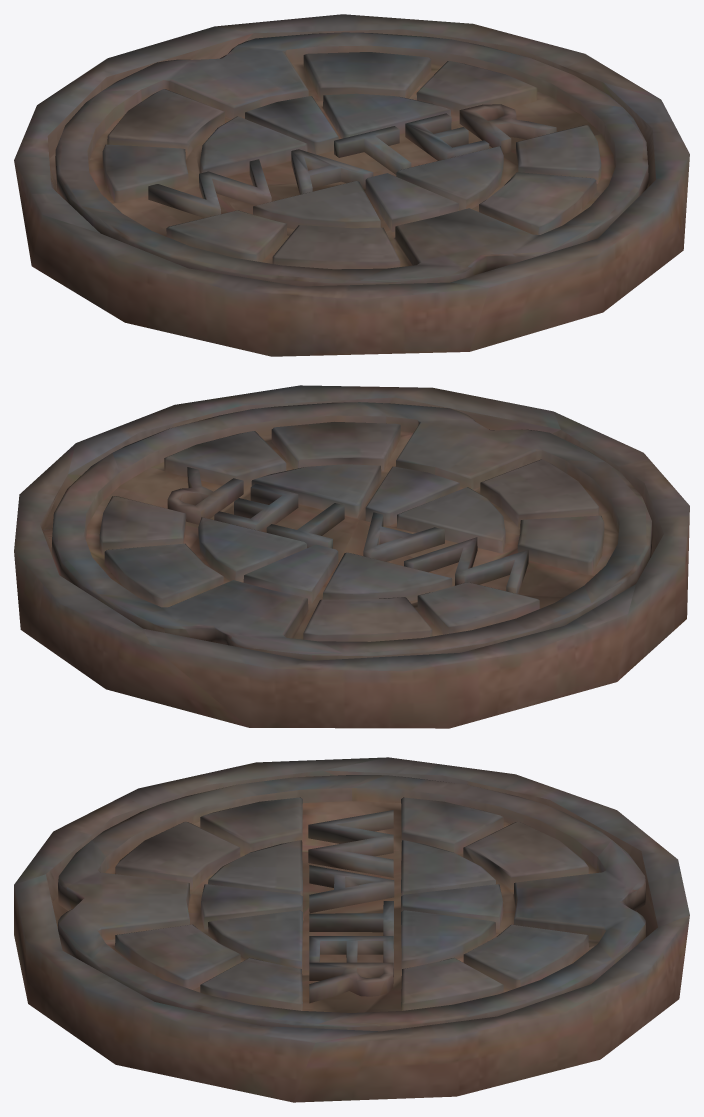
Rendered from kit_manhole.glb.
3 renders of one model, top to bottom at view 1: azimuth 30°, elevation 25°; view 2: azimuth 150°, elevation 25°; view 3: azimuth 270°, elevation 25°, orthographic.
Parts seen in each view (by area): view 1: water_manhole_cover, water_manhole_cover_frame; view 2: water_manhole_cover, water_manhole_cover_frame; view 3: water_manhole_cover, water_manhole_cover_frame.
Part boxes in pixels (left/top/right/bottom): water_manhole_cover: left=55, top=32, right=648, bottom=286; water_manhole_cover_frame: left=14, top=14, right=689, bottom=356; water_manhole_cover: left=51, top=402, right=652, bottom=660; water_manhole_cover_frame: left=14, top=385, right=689, bottom=728; water_manhole_cover: left=58, top=775, right=645, bottom=1031; water_manhole_cover_frame: left=14, top=757, right=689, bottom=1102.
Size of the model in its own units: 0.6889 by 0.0676 by 0.689.
1 material, 1 textured.
